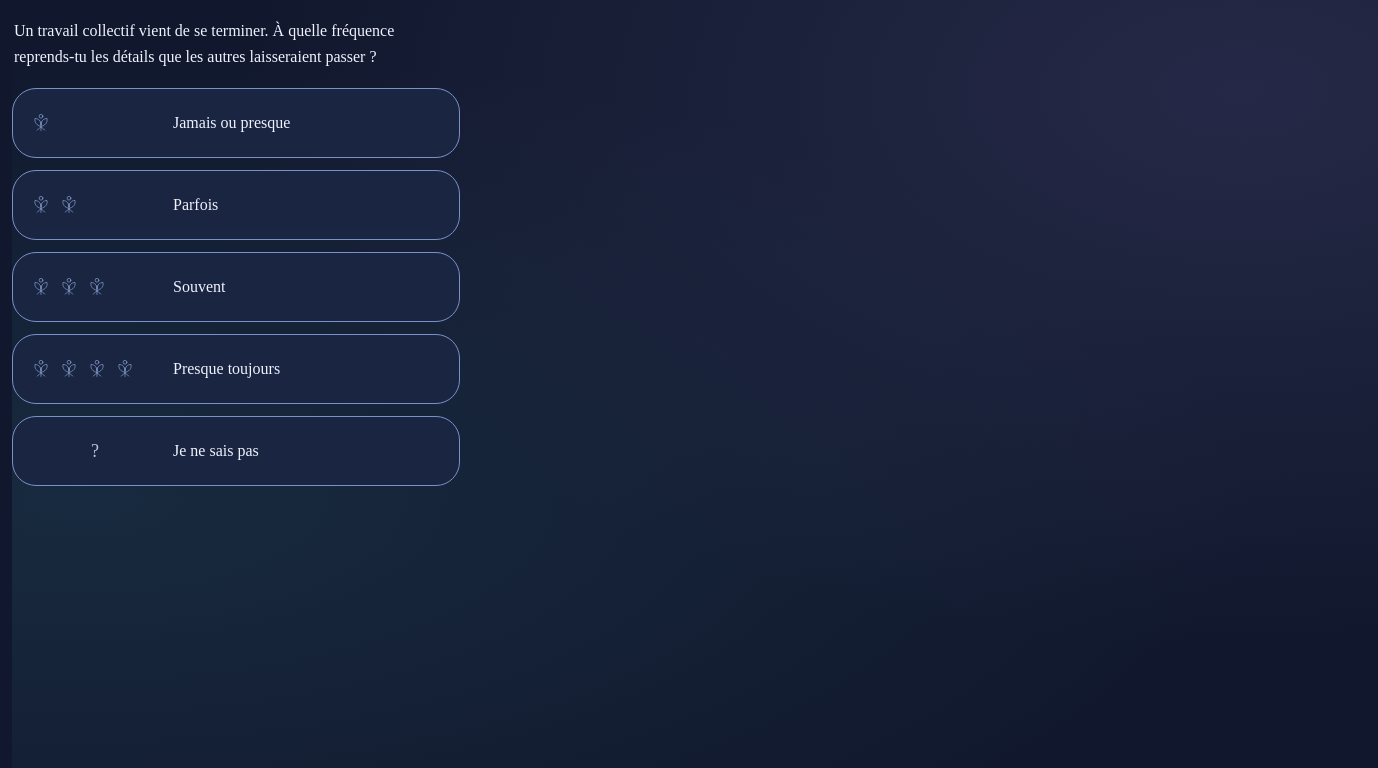
Test: [5.5/AC1] deux clics ne font pas deux envois › un enregistrement qui échoue se DIT, et ne perd rien à l’écran
Click the button "Jamais ou presque" at (236, 123), box [12, 88, 460, 158]
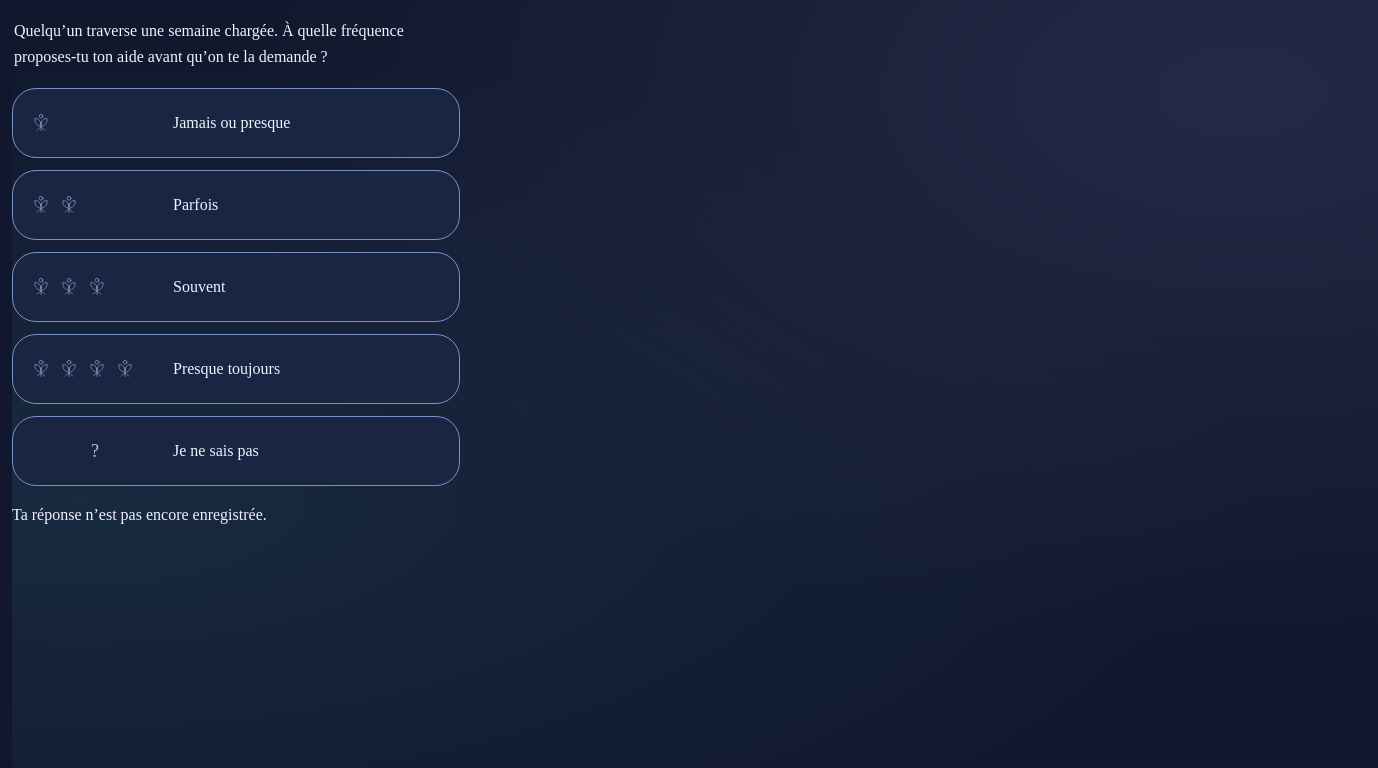
Result: the text "Quelqu’un traverse une semaine chargée. À quelle fréquence proposes-tu ton aide avant qu’on te la demande ?" is shown at [14, 22, 404, 65]
